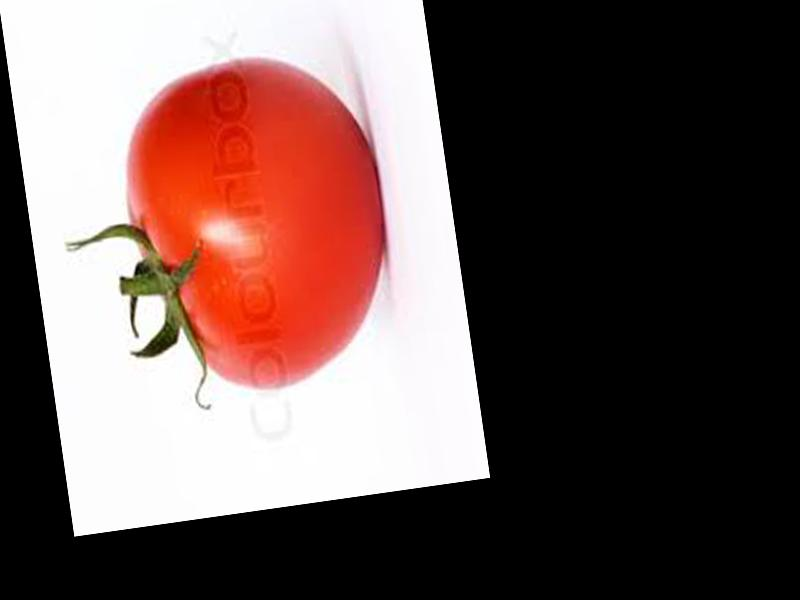Tomato: (108, 44, 401, 402)
